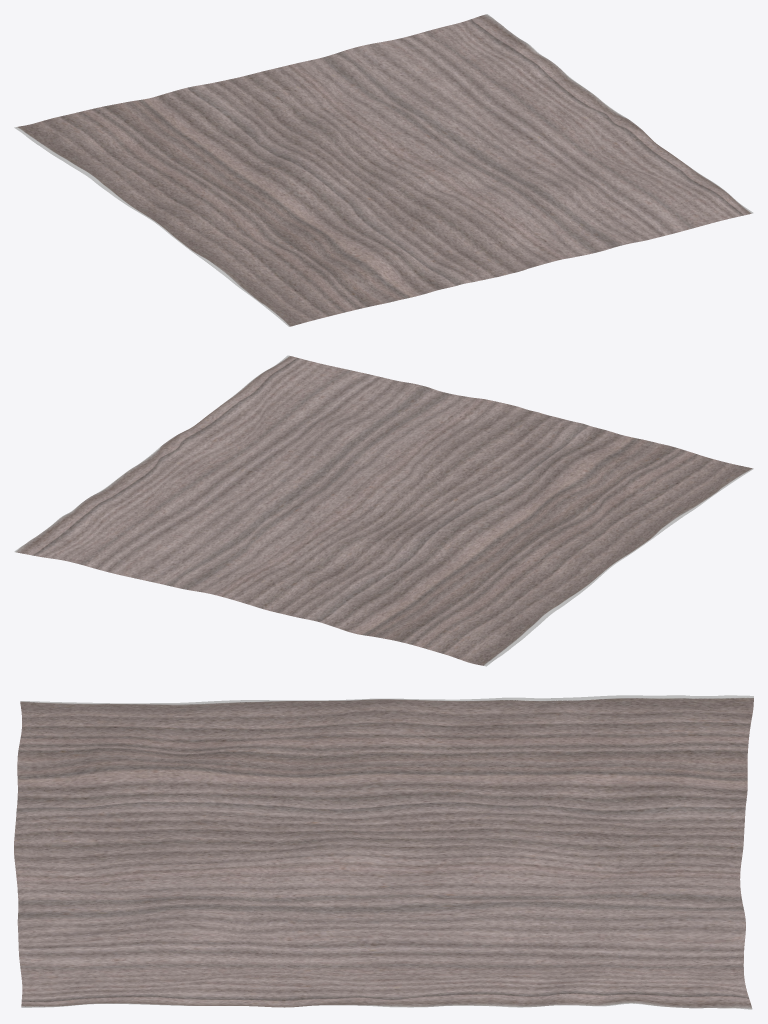
Rendered from sand.fbx.
The picture shows the model from 3 angles, top to bottom: view 1: azimuth 30°, elevation 25°; view 2: azimuth 150°, elevation 25°; view 3: azimuth 270°, elevation 25°; orthographic projection. The views are drawn at different scales.
Parts seen in each view (by area): view 1: pPlane2; view 2: pPlane2; view 3: pPlane2.
Part boxes in pixels (x1,y1,x2,y2): pPlane2: (14, 14, 753, 326); pPlane2: (14, 355, 753, 666); pPlane2: (14, 695, 753, 1009).
Bounding box in the file's own units: 14.96 × 0.2003 × 15.
Materials: 1 (1 with a texture image).
